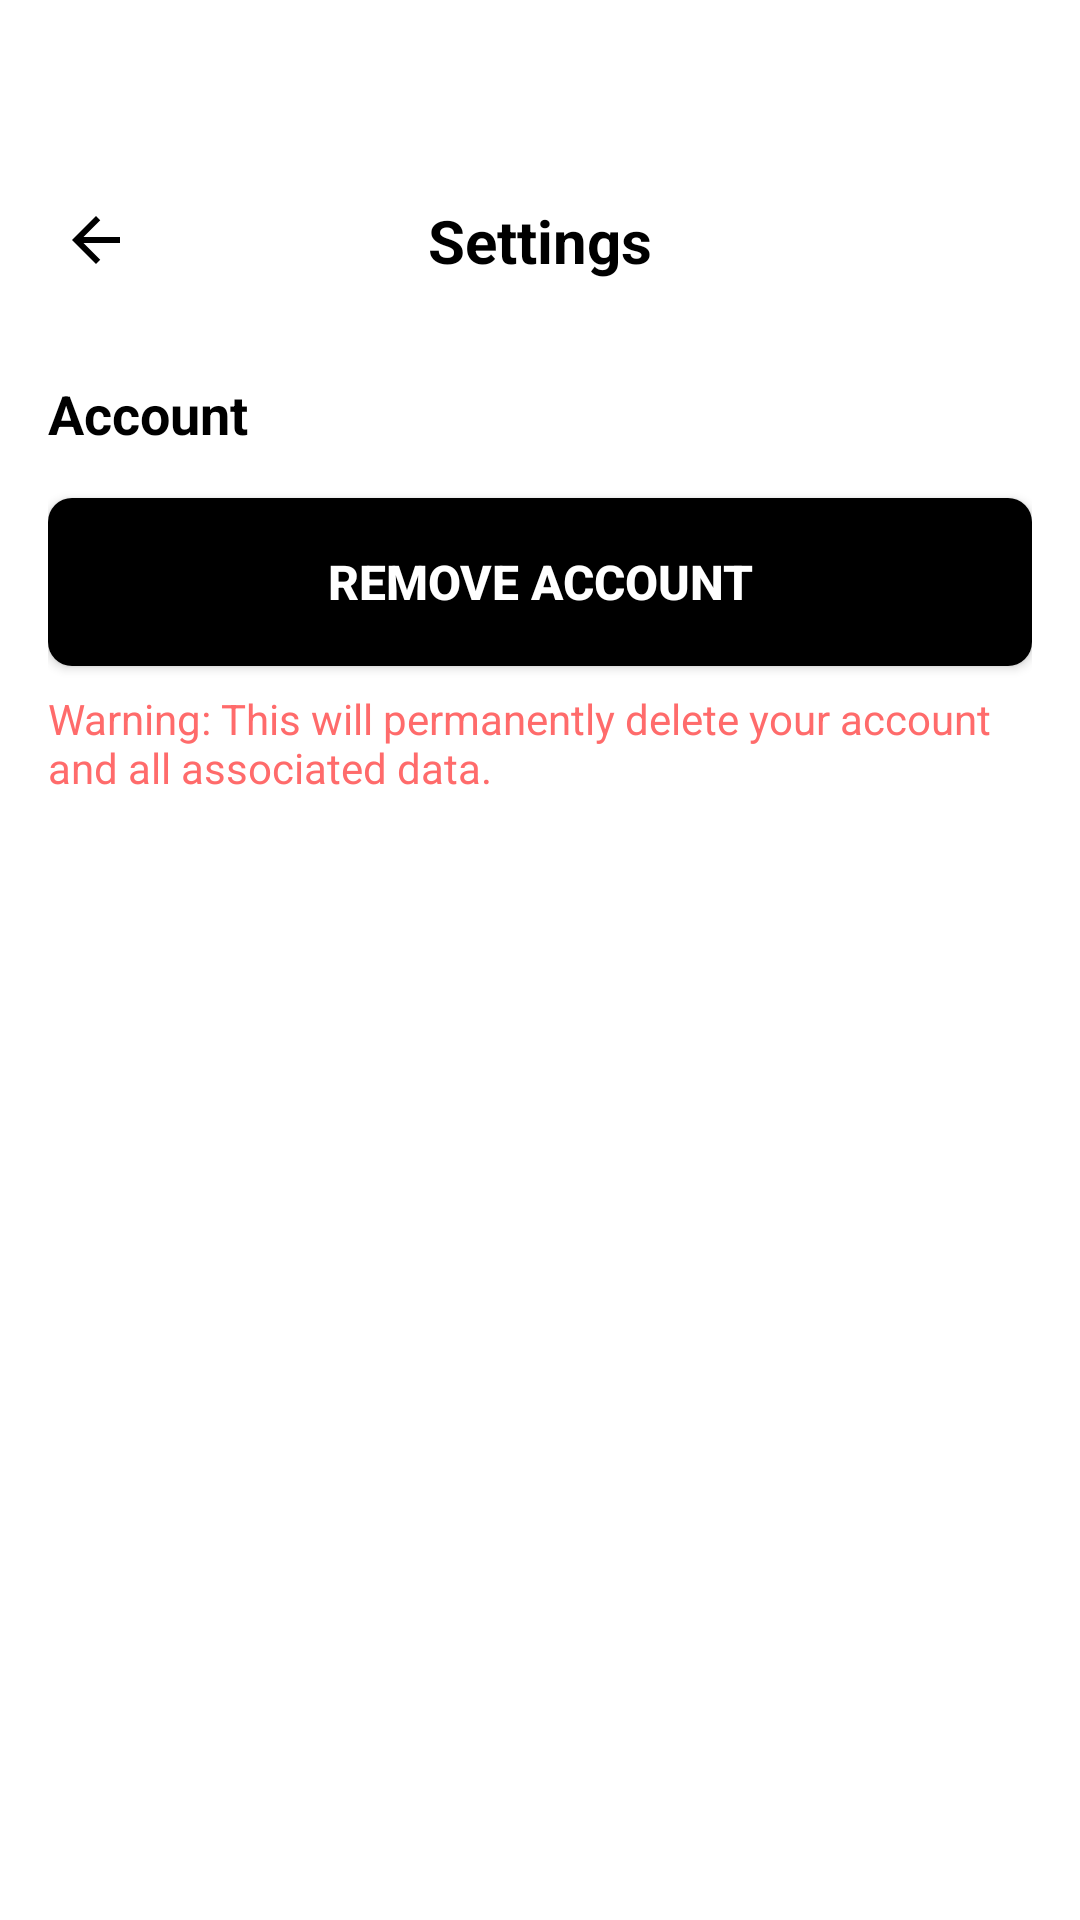

Icon bounding boxes for this 1080 × 1920 phone screenshot, format box(x1, y1, x2, y2):
Back: box(72, 216, 120, 264)
